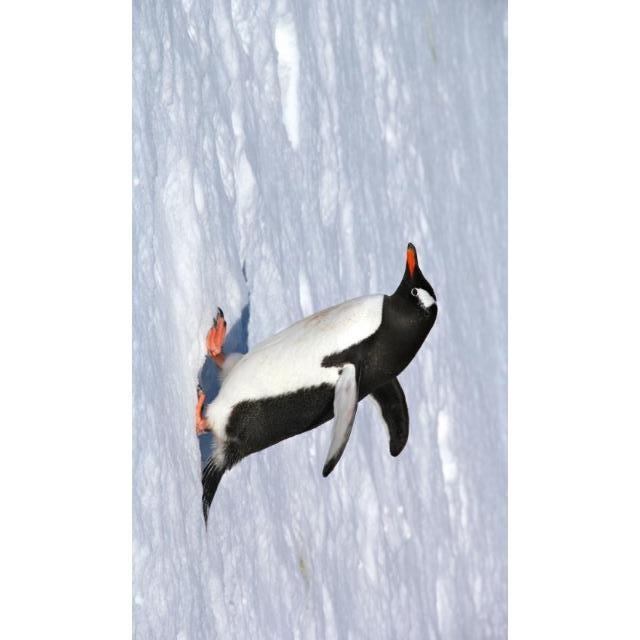penguin: (194, 243, 437, 531)
